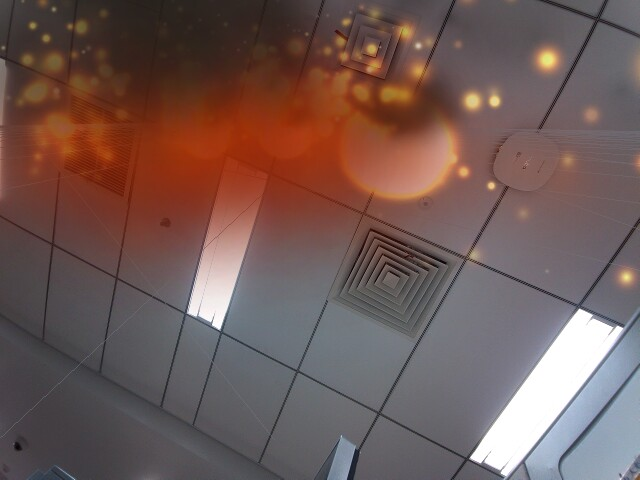fire: (340, 87, 458, 203), (262, 117, 316, 161)
